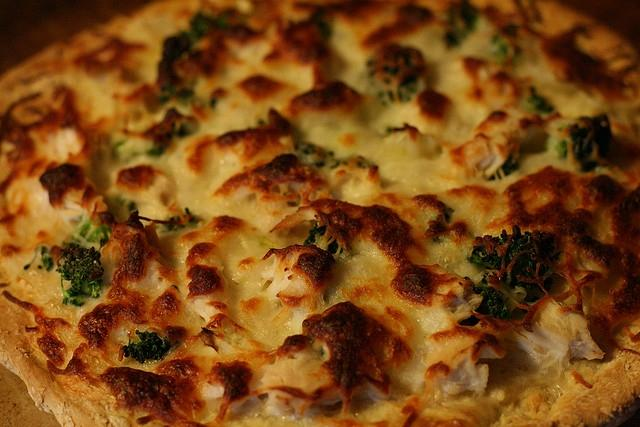broccoli: (466, 232, 554, 316), (364, 44, 420, 106), (555, 115, 611, 172), (54, 243, 104, 306), (468, 276, 511, 321), (64, 214, 110, 250), (123, 330, 171, 364), (488, 25, 522, 66), (304, 223, 342, 254), (443, 7, 468, 49), (163, 32, 193, 64), (160, 83, 196, 106), (527, 87, 555, 114), (175, 118, 201, 138)
